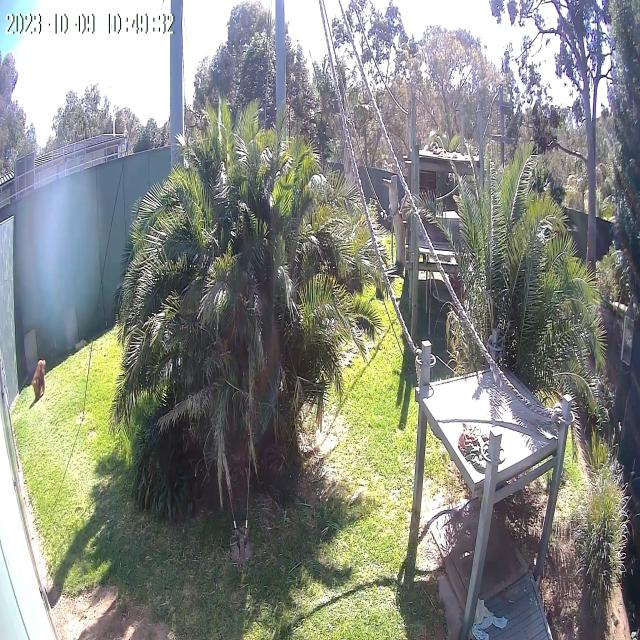orangutan: (30, 357, 46, 402)
